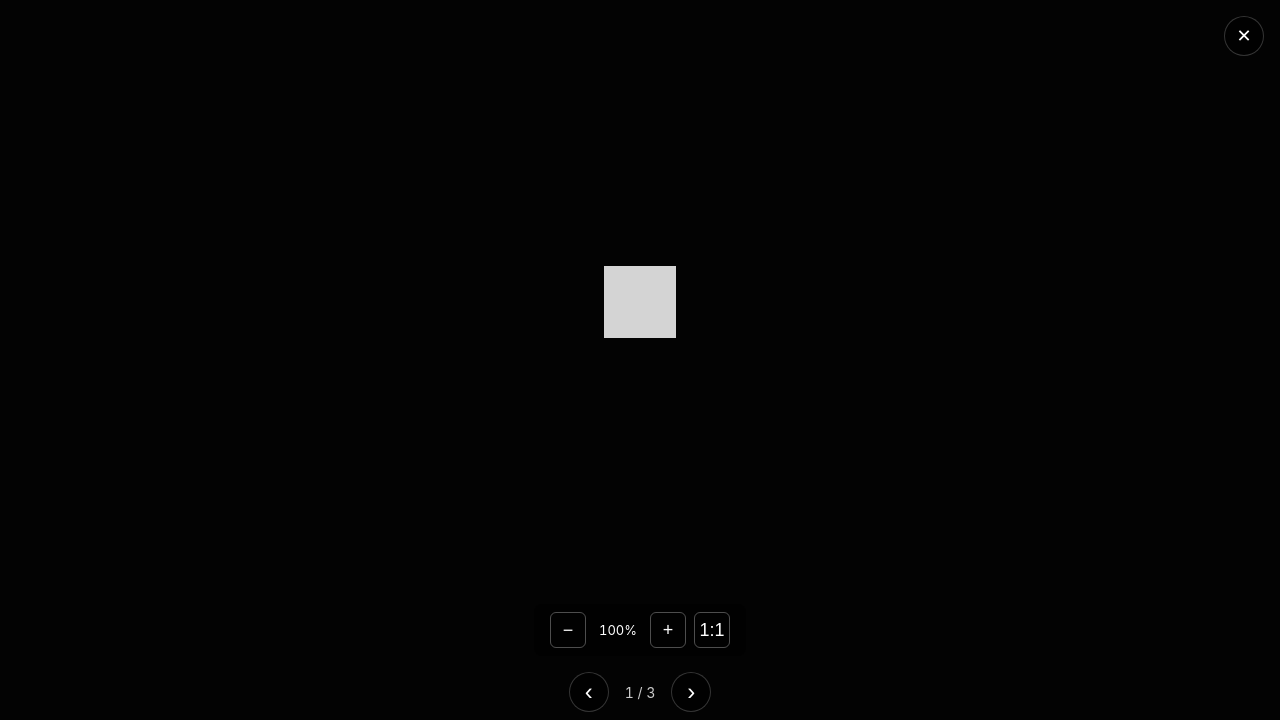
Test: ImageViewer › navigates to next image
Click the button named "다음 이미지": (691, 692) [671, 672, 711, 712]
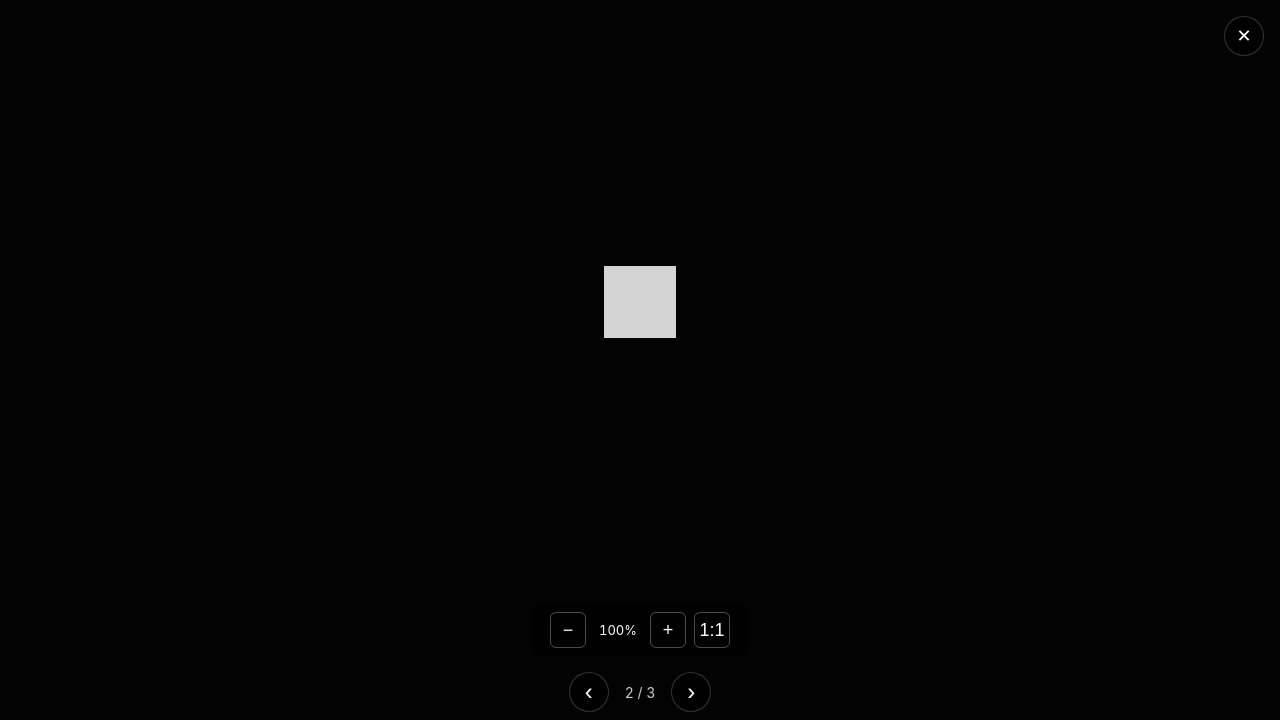
Expected: the text "2 / 3" is shown, [625, 684, 655, 700]
